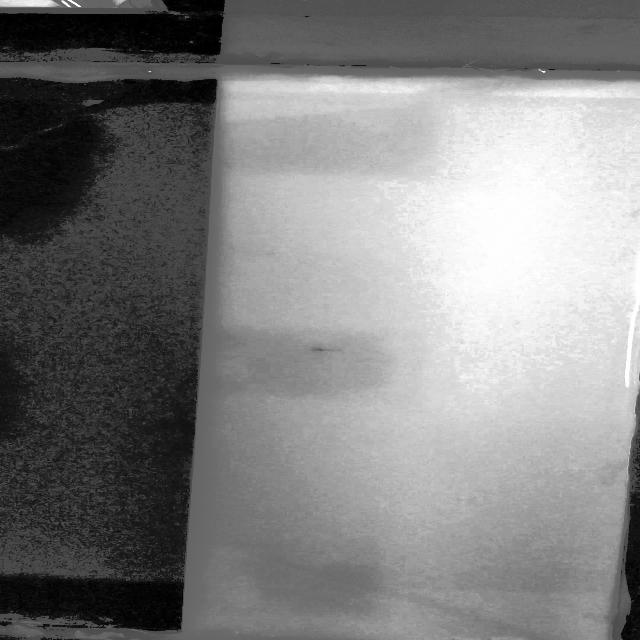shrimp: (301, 341, 337, 355)
